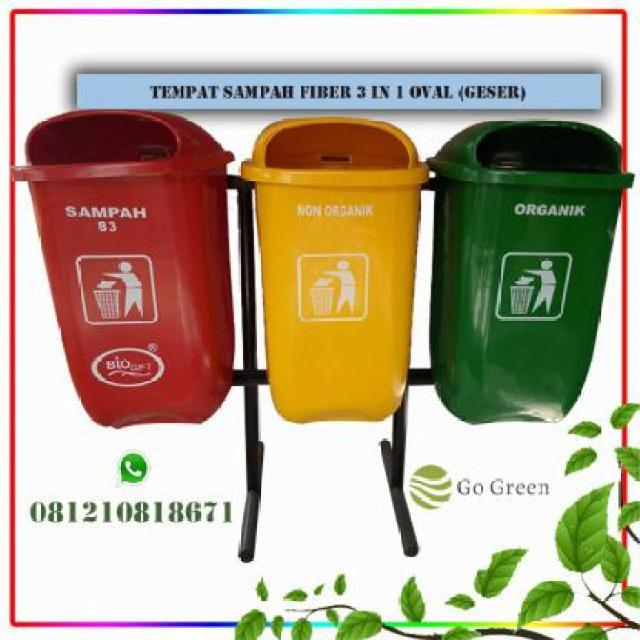garbage container: (15, 104, 232, 441), (424, 117, 640, 433), (237, 113, 434, 441)
